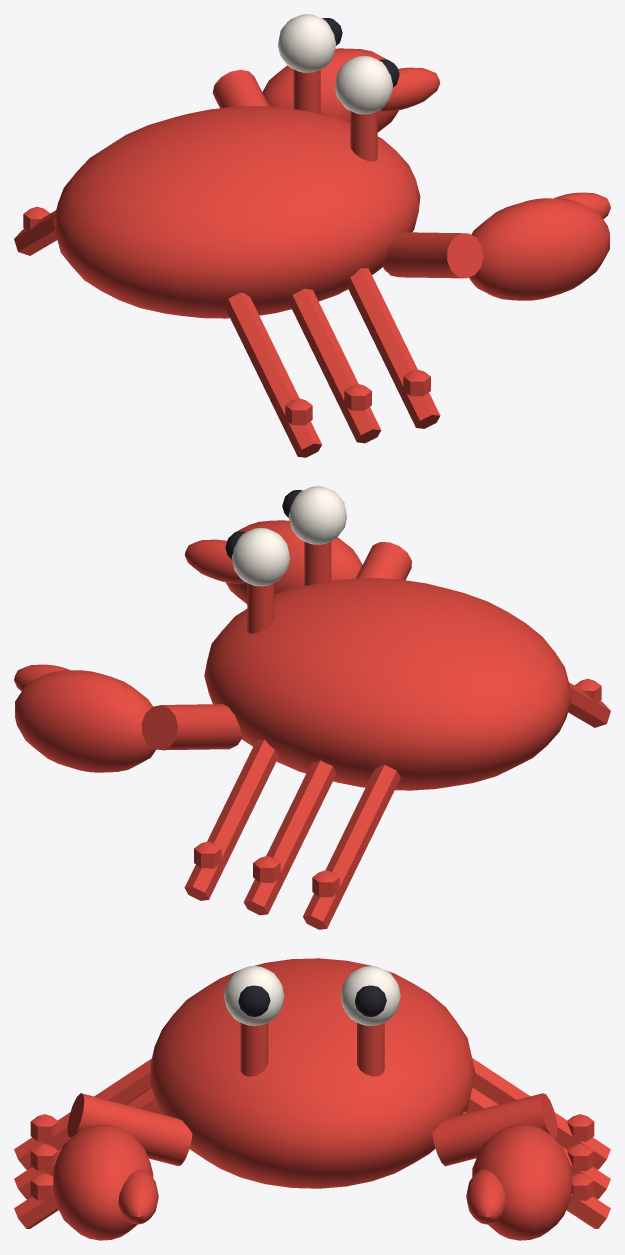
The model's file is crab.glb.
3 views of the same model, one above another, from view 1: azimuth 30°, elevation 25°; view 2: azimuth 150°, elevation 25°; view 3: azimuth 270°, elevation 25° (orthographic). The views are drawn at different scales.
Visible parts, largest first — view 1: crab; view 2: crab; view 3: crab.
Boxes of the visible parts, bbox=[...] form: crab: bbox=[14, 14, 610, 457]; crab: bbox=[14, 486, 610, 929]; crab: bbox=[14, 958, 610, 1240].
Size of the model in its own units: 0.4598 by 0.2699 by 0.5128.
1 material, 1 textured.
